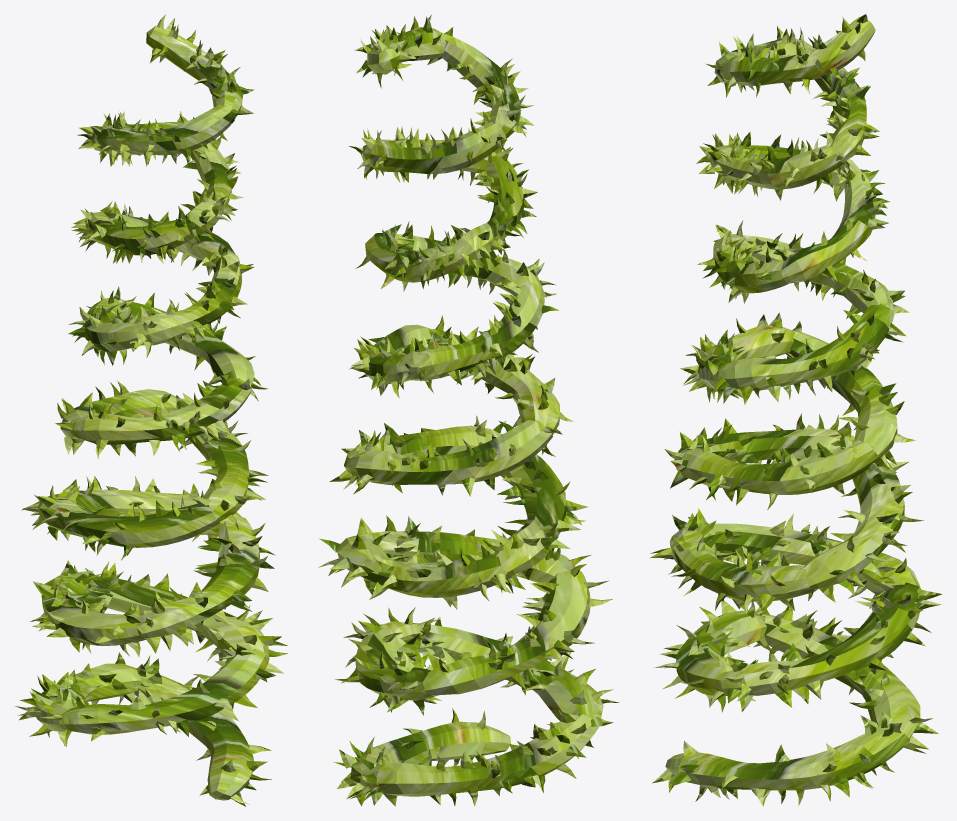
File: tappurapuuhun.fbx
3 views of the same model, side by side, from view 1: azimuth 30°, elevation 25°; view 2: azimuth 150°, elevation 25°; view 3: azimuth 270°, elevation 25° (orthographic). The views are drawn at different scales.
Parts seen in each view (by area): view 1: BezierCurve; view 2: BezierCurve; view 3: BezierCurve.
Part boxes in pixels (<box>): BezierCurve: <box>15,14,287,806</box>; BezierCurve: <box>318,14,619,806</box>; BezierCurve: <box>649,14,942,806</box>.
Size of the model in its own units: 617 by 1793 by 605.
